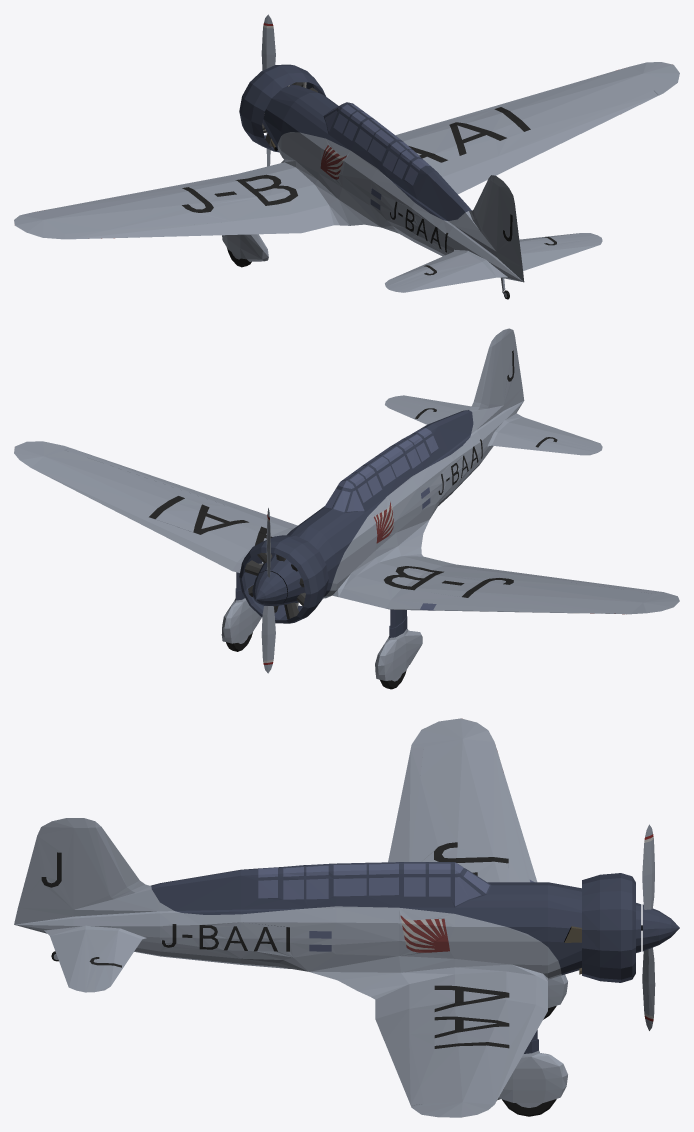
The model's file is kamikaze.obj.
The picture shows the model from 3 angles, top to bottom: view 1: azimuth 30°, elevation 25°; view 2: azimuth 150°, elevation 25°; view 3: azimuth 270°, elevation 25°; orthographic projection. The views are drawn at different scales.
Parts seen in each view (by area): view 1: ShapeIndexedFaceSet.001_ShapeIndexedFaceSet.002, ShapeIndexedFaceSet_ShapeIndexedFaceSet.001, ShapeIndexedFaceSet.023_ShapeIndexedFaceSet.024, ShapeIndexedFaceSet.009_ShapeIndexedFaceSet.010, ShapeIndexedFaceSet.014_ShapeIndexedFaceSet.015, ShapeIndexedFaceSet.020_ShapeIndexedFaceSet.021, ShapeIndexedFaceSet.017_ShapeIndexedFaceSet.018, ShapeIndexedFaceSet.015_ShapeIndexedFaceSet.016, ShapeIndexedFaceSet.010_ShapeIndexedFaceSet.011; view 2: ShapeIndexedFaceSet.001_ShapeIndexedFaceSet.002, ShapeIndexedFaceSet_ShapeIndexedFaceSet.001, ShapeIndexedFaceSet.023_ShapeIndexedFaceSet.024, ShapeIndexedFaceSet.009_ShapeIndexedFaceSet.010, ShapeIndexedFaceSet.014_ShapeIndexedFaceSet.015, ShapeIndexedFaceSet.015_ShapeIndexedFaceSet.016, ShapeIndexedFaceSet.010_ShapeIndexedFaceSet.011, ShapeIndexedFaceSet.020_ShapeIndexedFaceSet.021, ShapeIndexedFaceSet.004_ShapeIndexedFaceSet.005; view 3: ShapeIndexedFaceSet.001_ShapeIndexedFaceSet.002, ShapeIndexedFaceSet_ShapeIndexedFaceSet.001, ShapeIndexedFaceSet.023_ShapeIndexedFaceSet.024, ShapeIndexedFaceSet.015_ShapeIndexedFaceSet.016, ShapeIndexedFaceSet.009_ShapeIndexedFaceSet.010, ShapeIndexedFaceSet.017_ShapeIndexedFaceSet.018, ShapeIndexedFaceSet.010_ShapeIndexedFaceSet.011, ShapeIndexedFaceSet.014_ShapeIndexedFaceSet.015, ShapeIndexedFaceSet.020_ShapeIndexedFaceSet.021, ShapeIndexedFaceSet.006_ShapeIndexedFaceSet.007.
Part boxes in pixels (left/top/right/bottom): ShapeIndexedFaceSet.001_ShapeIndexedFaceSet.002: left=14, top=62, right=679, bottom=297; ShapeIndexedFaceSet_ShapeIndexedFaceSet.001: left=239, top=64, right=471, bottom=220; ShapeIndexedFaceSet.023_ShapeIndexedFaceSet.024: left=325, top=103, right=430, bottom=210; ShapeIndexedFaceSet.009_ShapeIndexedFaceSet.010: left=182, top=107, right=556, bottom=275; ShapeIndexedFaceSet.014_ShapeIndexedFaceSet.015: left=389, top=238, right=602, bottom=292; ShapeIndexedFaceSet.020_ShapeIndexedFaceSet.021: left=498, top=90, right=658, bottom=169; ShapeIndexedFaceSet.017_ShapeIndexedFaceSet.018: left=65, top=221, right=241, bottom=239; ShapeIndexedFaceSet.015_ShapeIndexedFaceSet.016: left=489, top=175, right=522, bottom=266; ShapeIndexedFaceSet.010_ShapeIndexedFaceSet.011: left=261, top=14, right=275, bottom=166; ShapeIndexedFaceSet.001_ShapeIndexedFaceSet.002: left=14, top=340, right=679, bottom=681; ShapeIndexedFaceSet_ShapeIndexedFaceSet.001: left=235, top=410, right=473, bottom=637; ShapeIndexedFaceSet.023_ShapeIndexedFaceSet.024: left=324, top=428, right=438, bottom=610; ShapeIndexedFaceSet.009_ShapeIndexedFaceSet.010: left=149, top=408, right=557, bottom=597; ShapeIndexedFaceSet.014_ShapeIndexedFaceSet.015: left=389, top=395, right=602, bottom=450; ShapeIndexedFaceSet.015_ShapeIndexedFaceSet.016: left=489, top=328, right=522, bottom=404; ShapeIndexedFaceSet.010_ShapeIndexedFaceSet.011: left=261, top=508, right=275, bottom=673; ShapeIndexedFaceSet.020_ShapeIndexedFaceSet.021: left=65, top=448, right=241, bottom=507; ShapeIndexedFaceSet.004_ShapeIndexedFaceSet.005: left=244, top=552, right=305, bottom=619; ShapeIndexedFaceSet.001_ShapeIndexedFaceSet.002: left=14, top=718, right=567, bottom=1117; ShapeIndexedFaceSet_ShapeIndexedFaceSet.001: left=151, top=862, right=679, bottom=1053; ShapeIndexedFaceSet.023_ShapeIndexedFaceSet.024: left=258, top=862, right=534, bottom=951; ShapeIndexedFaceSet.015_ShapeIndexedFaceSet.016: left=18, top=818, right=101, bottom=909; ShapeIndexedFaceSet.009_ShapeIndexedFaceSet.010: left=89, top=842, right=509, bottom=1048; ShapeIndexedFaceSet.017_ShapeIndexedFaceSet.018: left=388, top=747, right=423, bottom=862; ShapeIndexedFaceSet.010_ShapeIndexedFaceSet.011: left=642, top=824, right=655, bottom=1030; ShapeIndexedFaceSet.014_ShapeIndexedFaceSet.015: left=50, top=929, right=85, bottom=992; ShapeIndexedFaceSet.020_ShapeIndexedFaceSet.021: left=384, top=1034, right=423, bottom=1105; ShapeIndexedFaceSet.006_ShapeIndexedFaceSet.007: left=400, top=718, right=497, bottom=952.
Size of the model in its own units: 120 by 35.1 by 84.6.
